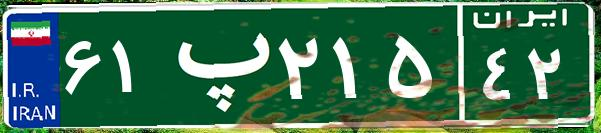1: (330, 28, 385, 110), (110, 28, 158, 105)
2: (273, 28, 330, 110), (525, 38, 570, 115)
4: (475, 38, 525, 113)
5: (385, 28, 445, 110)
6: (57, 26, 110, 107)
پ: (158, 15, 273, 115)
